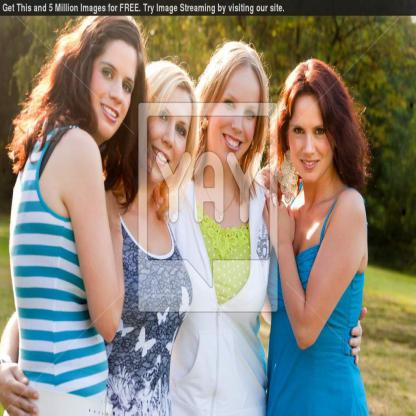face: (209, 68, 260, 172), (91, 39, 138, 137), (289, 89, 334, 184), (148, 89, 193, 181)
